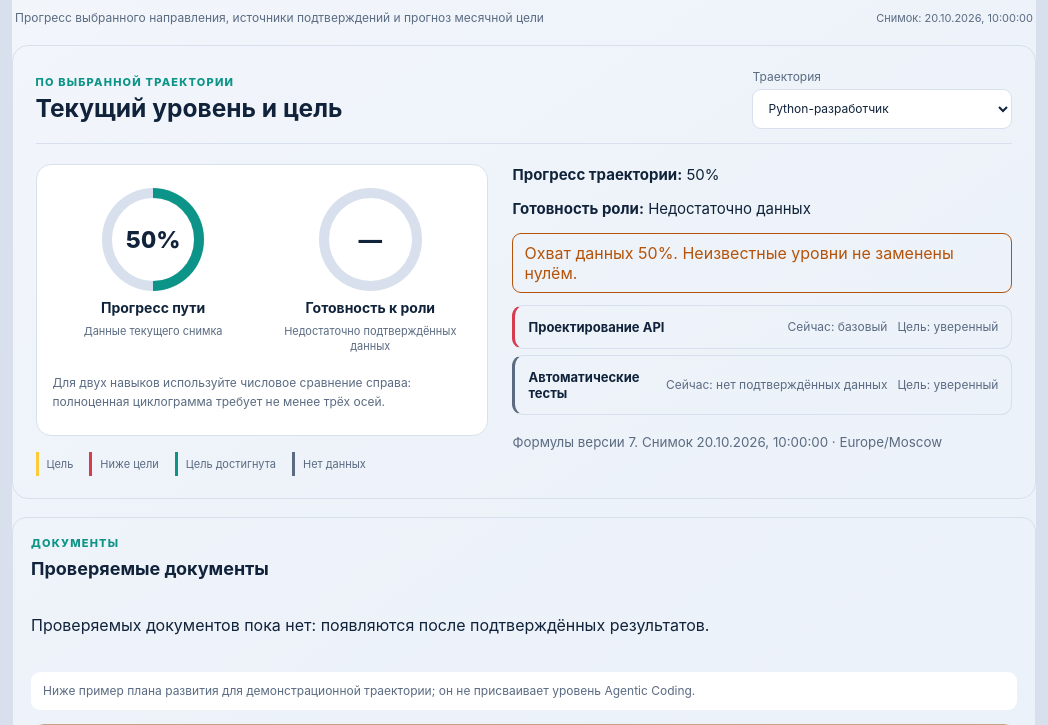
participant analytics drill-down deep links › keeps deep links with unknown referral and honest responses without fake data
(page scrolled)
Expected: the button with test id "skill-toggle-api" is shown, [516, 306, 1012, 348]
Click the button with aria-label "Подробнее о навыке Автоматические тесты" at (764, 385), box [516, 356, 1012, 414]
(page scrolled)
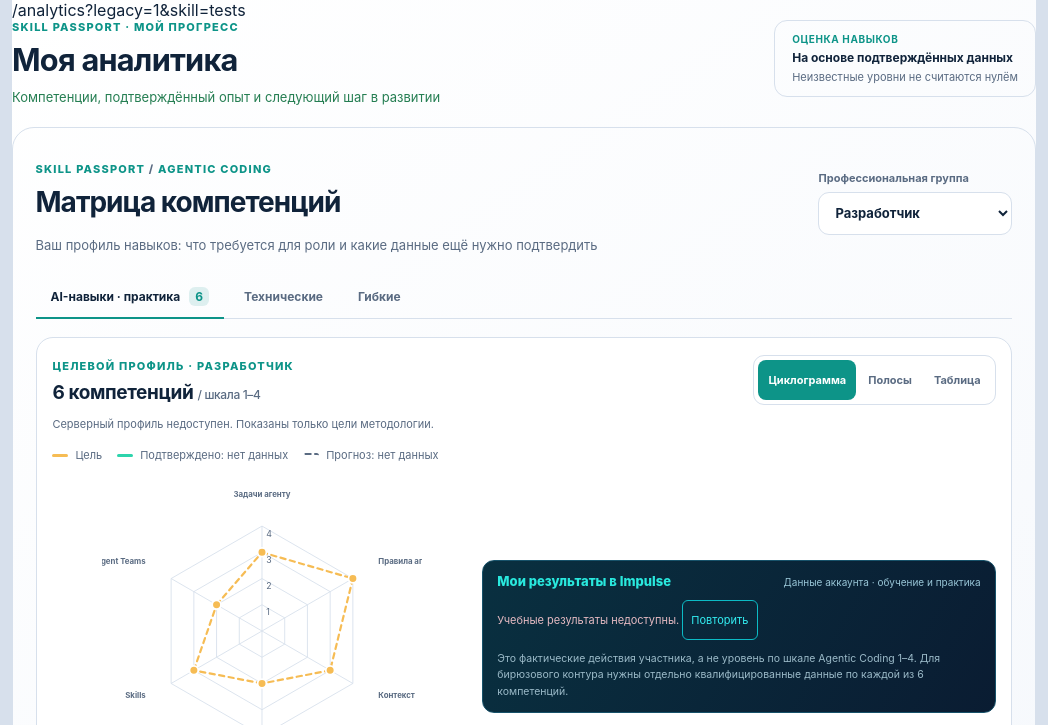
Now the text with test id "url-probe" shows "skill=tests", box [12, 0, 246, 20]
